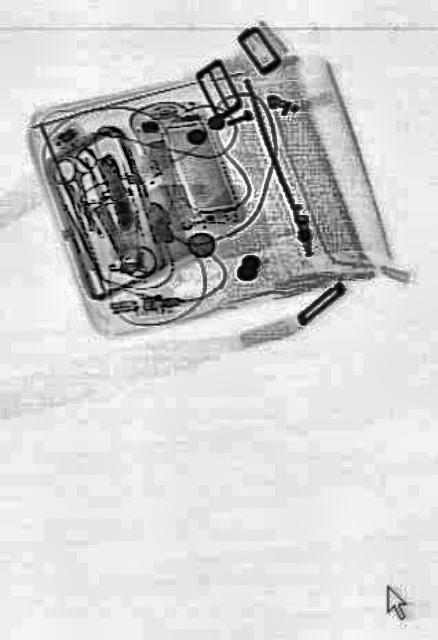Scissors: (48, 142, 112, 238)
